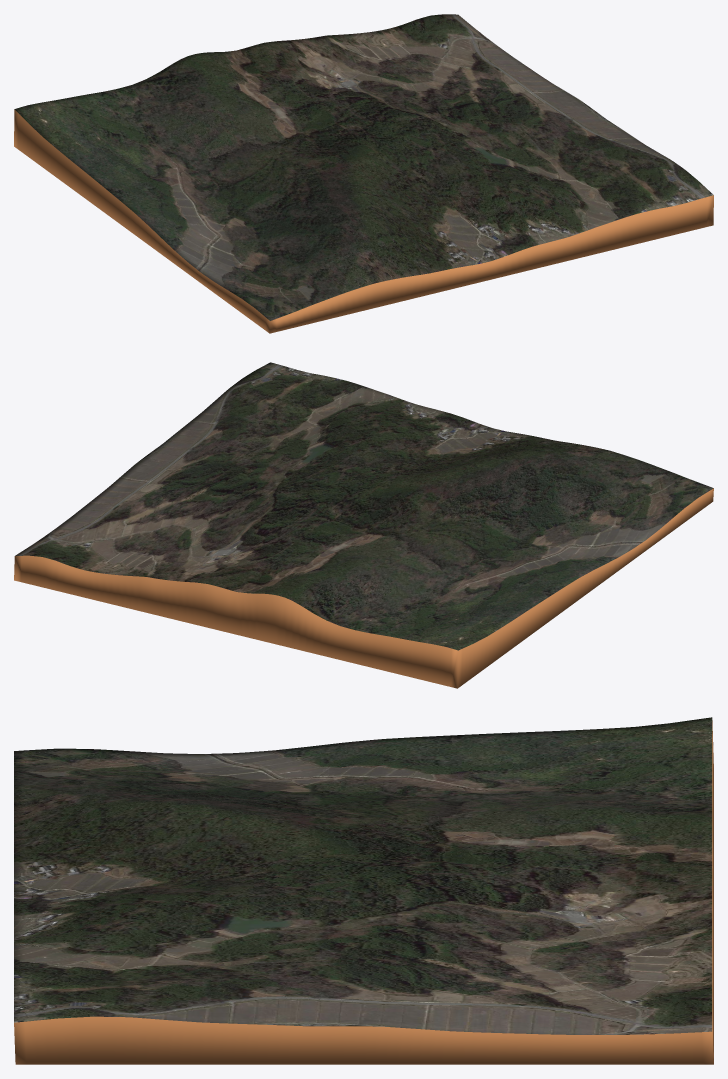
File: world05.dae
3 views of the same model, one above another, from view 1: azimuth 30°, elevation 25°; view 2: azimuth 150°, elevation 25°; view 3: azimuth 270°, elevation 25° (orthographic). The views are drawn at different scales.
Parts seen in each view (by area): view 1: EXPORT_GOOGLE_SAT_WM; view 2: EXPORT_GOOGLE_SAT_WM; view 3: EXPORT_GOOGLE_SAT_WM.
Part boxes in pixels (x1,y1,x2,y2): EXPORT_GOOGLE_SAT_WM: [14, 14, 713, 333]; EXPORT_GOOGLE_SAT_WM: [14, 362, 713, 688]; EXPORT_GOOGLE_SAT_WM: [14, 717, 713, 1064].
Size of the model in its own units: 100 by 100 by 10.5.
Materials: 2 (1 with a texture image).
